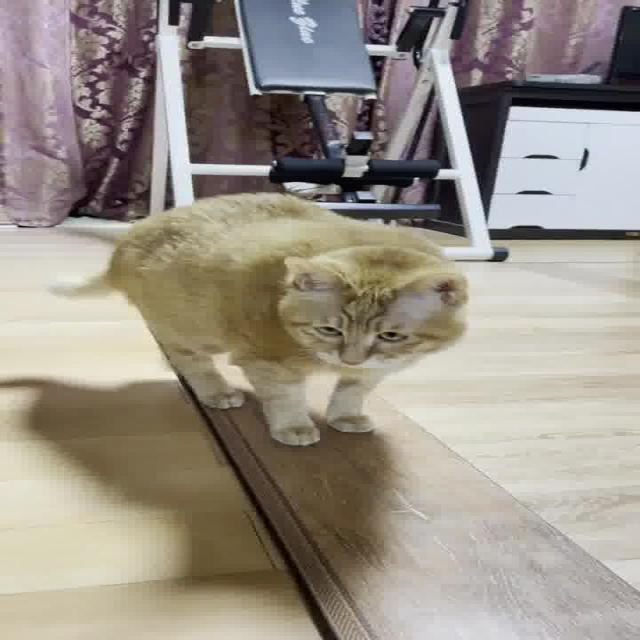cat: (0, 185, 501, 457)
